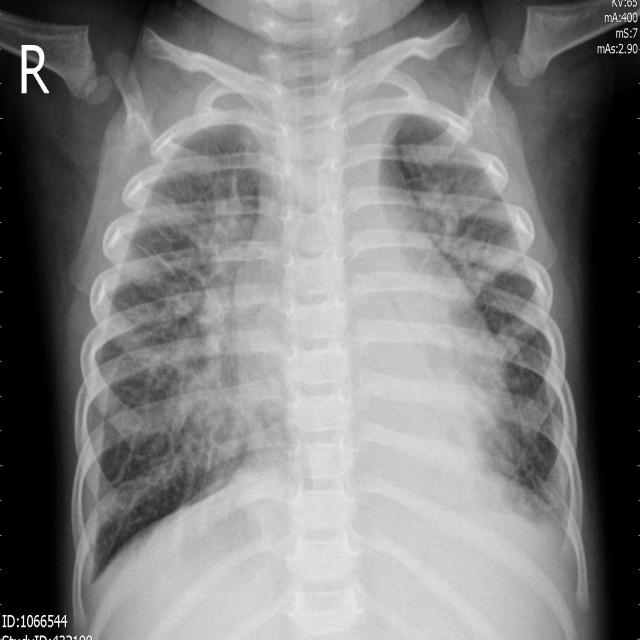low-pneumonia: (164, 192, 256, 478), (421, 159, 504, 311), (496, 369, 542, 478)
